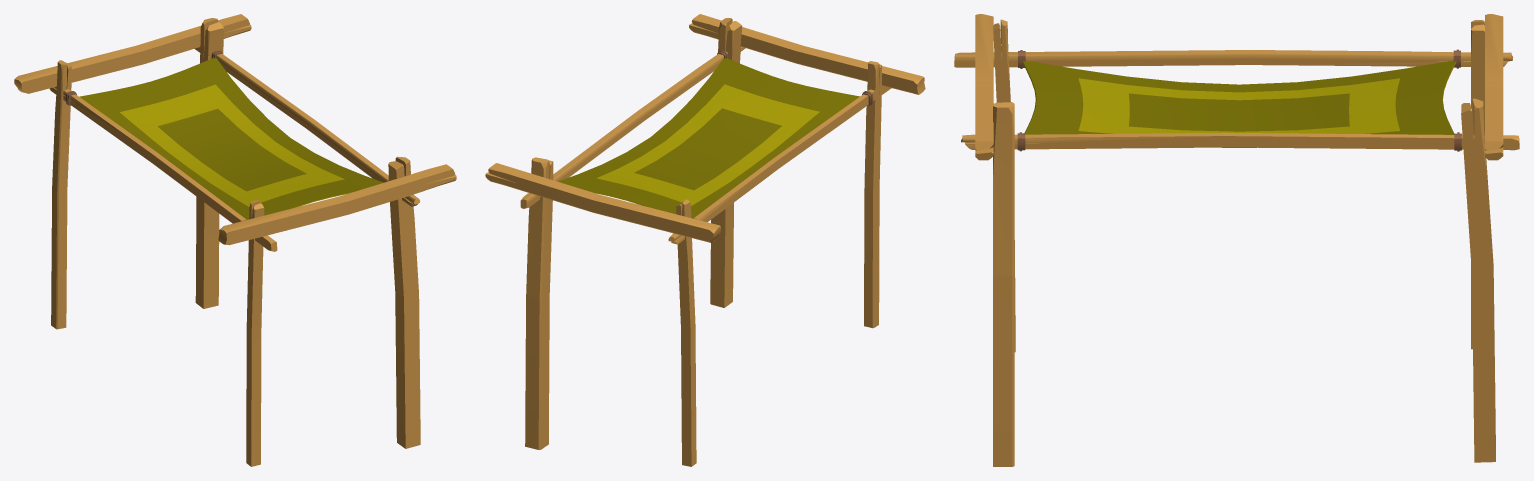
Rendered from Module_Awning_Large.fbx.
3 views of the same model, side by side, from view 1: azimuth 30°, elevation 25°; view 2: azimuth 150°, elevation 25°; view 3: azimuth 270°, elevation 25° (orthographic). The views are drawn at different scales.
Visible parts, largest first — view 1: Module_Awning_Large_Geometry; view 2: Module_Awning_Large_Geometry; view 3: Module_Awning_Large_Geometry.
Part boxes in pixels (box(x1,y1,x2,y2)): Module_Awning_Large_Geometry: box(14, 14, 456, 466); Module_Awning_Large_Geometry: box(485, 14, 925, 466); Module_Awning_Large_Geometry: box(954, 14, 1519, 466).
Size of the model in its own units: 4.15 by 4.9 by 7.06.
